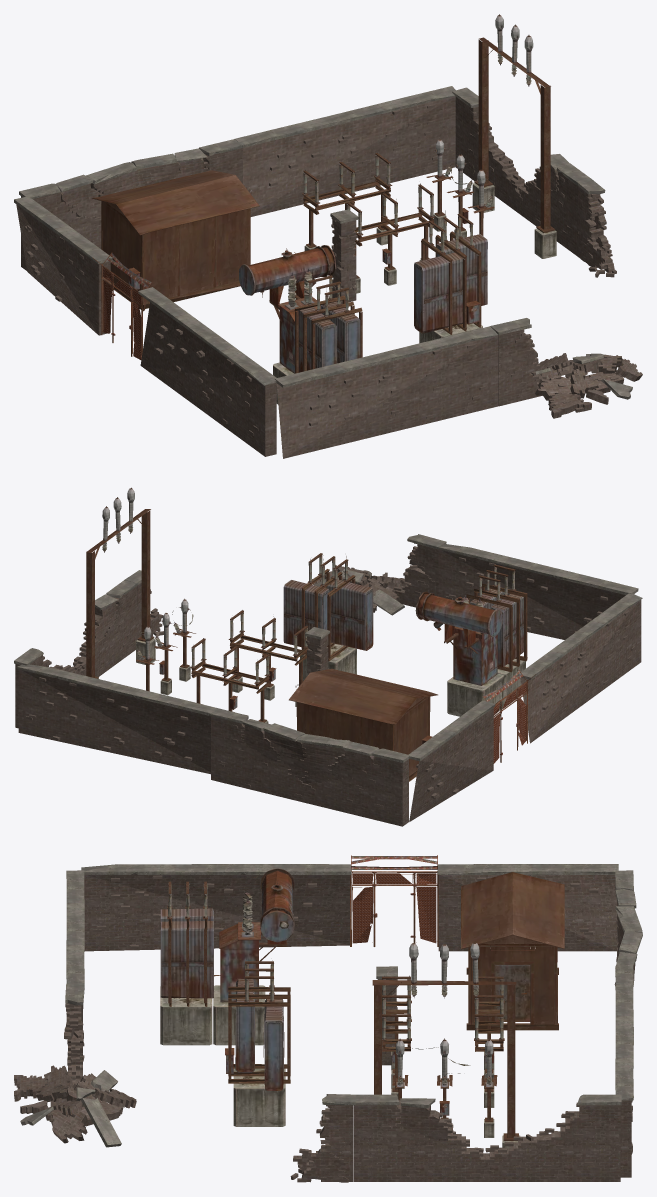
The model's file is power_sub_big_2-map.glb.
3 renders of one model, top to bottom at view 1: azimuth 30°, elevation 25°; view 2: azimuth 150°, elevation 25°; view 3: azimuth 270°, elevation 25°, orthographic. The views are drawn at different scales.
Parts seen in each view (by area): view 1: wall_plaster_300x150_end, substation_b_LOD0, substation_d_LOD0, chainlink_fence_3x3_gate_LOD0; view 2: wall_plaster_300x150_end, substation_b_LOD0, substation_d_LOD0, chainlink_fence_3x3_gate_LOD0; view 3: wall_plaster_300x150_end, substation_b_LOD0, substation_d_LOD0, chainlink_fence_3x3_gate_LOD0.
Part boxes in pixels (bbox=[...]): wall_plaster_300x150_end: bbox=[14, 86, 642, 458]; substation_b_LOD0: bbox=[102, 14, 556, 404]; substation_d_LOD0: bbox=[92, 170, 259, 303]; chainlink_fence_3x3_gate_LOD0: bbox=[92, 252, 152, 359]; wall_plaster_300x150_end: bbox=[14, 534, 642, 826]; substation_b_LOD0: bbox=[86, 487, 527, 781]; substation_d_LOD0: bbox=[289, 668, 437, 775]; chainlink_fence_3x3_gate_LOD0: bbox=[483, 669, 535, 763]; wall_plaster_300x150_end: bbox=[14, 864, 642, 1182]; substation_b_LOD0: bbox=[160, 868, 558, 1147]; substation_d_LOD0: bbox=[461, 872, 564, 1024]; chainlink_fence_3x3_gate_LOD0: bbox=[350, 855, 438, 946].
Bounding box in the file's own units: 19.36 × 9.38 × 21.19.
9 materials, 9 textured.
